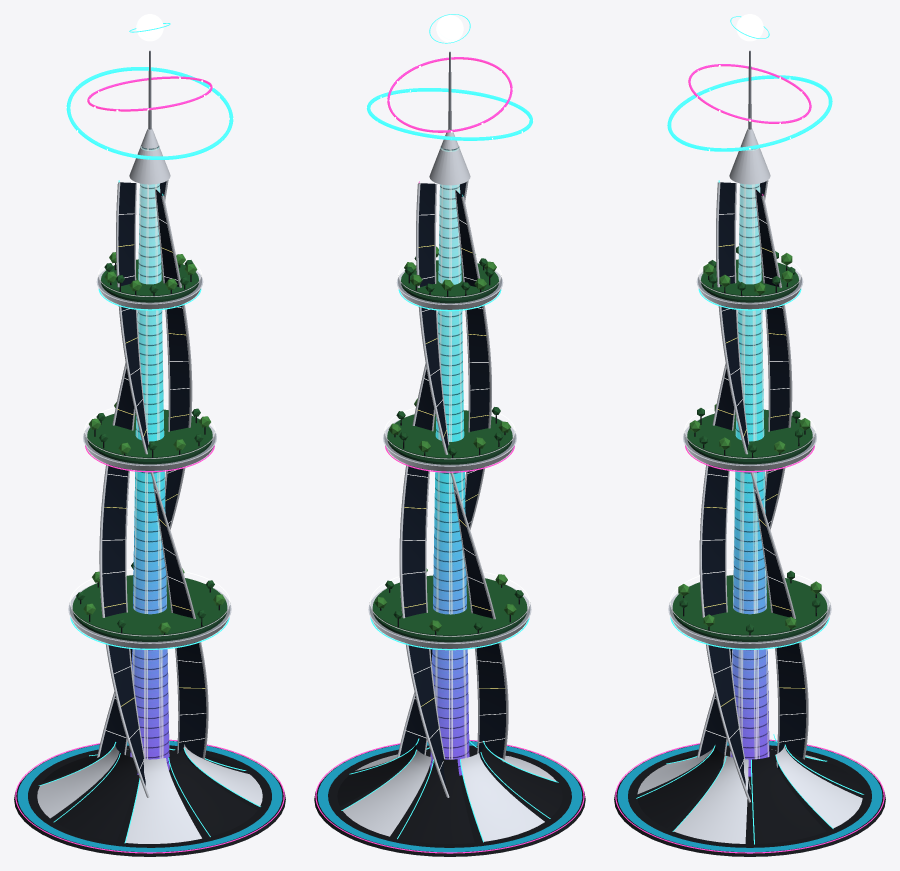
File: landmark_spire.glb
3 renders of one model, left to right at view 1: azimuth 30°, elevation 25°; view 2: azimuth 150°, elevation 25°; view 3: azimuth 270°, elevation 25°, orthographic.
Parts seen in each view (by area): view 1: panel_white, blade_glass (×3), panel_dark, core, garden, glass, water, neon (×2), neon2 (×2), light_white (×2), garden2; view 2: panel_white, blade_glass (×3), panel_dark, core, garden, glass, water, neon (×2), neon2 (×2), light_white (×2), garden2; view 3: panel_white, blade_glass (×3), panel_dark, core, garden, glass, water, neon (×2), neon2 (×2), light_white (×2), garden2.
Part boxes in pixels (left/top/right/bottom): panel_white: left=37, top=128, right=262, bottom=843; blade_glass (×3): left=99, top=181, right=206, bottom=785; panel_dark: left=14, top=263, right=285, bottom=856; core: left=130, top=146, right=169, bottom=774; garden: left=72, top=259, right=227, bottom=641; glass: left=70, top=276, right=229, bottom=642; water: left=17, top=741, right=282, bottom=852; neon (×2): left=38, top=67, right=260, bottom=843; neon2 (×2): left=15, top=76, right=284, bottom=853; light_white (×2): left=69, top=14, right=230, bottom=769; garden2: left=83, top=252, right=225, bottom=633; panel_white: left=343, top=129, right=555, bottom=841; blade_glass (×3): left=400, top=182, right=505, bottom=786; panel_dark: left=314, top=266, right=585, bottom=856; core: left=430, top=146, right=469, bottom=775; garden: left=372, top=256, right=527, bottom=642; glass: left=370, top=277, right=529, bottom=643; water: left=317, top=741, right=582, bottom=852; neon (×2): left=341, top=88, right=558, bottom=842; neon2 (×2): left=315, top=57, right=584, bottom=853; light_white (×2): left=369, top=15, right=530, bottom=769; garden2: left=374, top=246, right=516, bottom=631; panel_white: left=637, top=128, right=862, bottom=843; blade_glass (×3): left=699, top=181, right=806, bottom=797; panel_dark: left=614, top=265, right=885, bottom=856; core: left=730, top=146, right=769, bottom=776; garden: left=672, top=246, right=827, bottom=641; glass: left=670, top=276, right=829, bottom=642; water: left=617, top=741, right=882, bottom=852; neon (×2): left=636, top=75, right=863, bottom=844; neon2 (×2): left=615, top=64, right=884, bottom=853; light_white (×2): left=669, top=14, right=830, bottom=769; garden2: left=678, top=253, right=821, bottom=628.
Size of the model in its own units: 31.6 by 101 by 31.6.
13 materials, 1 textured.
